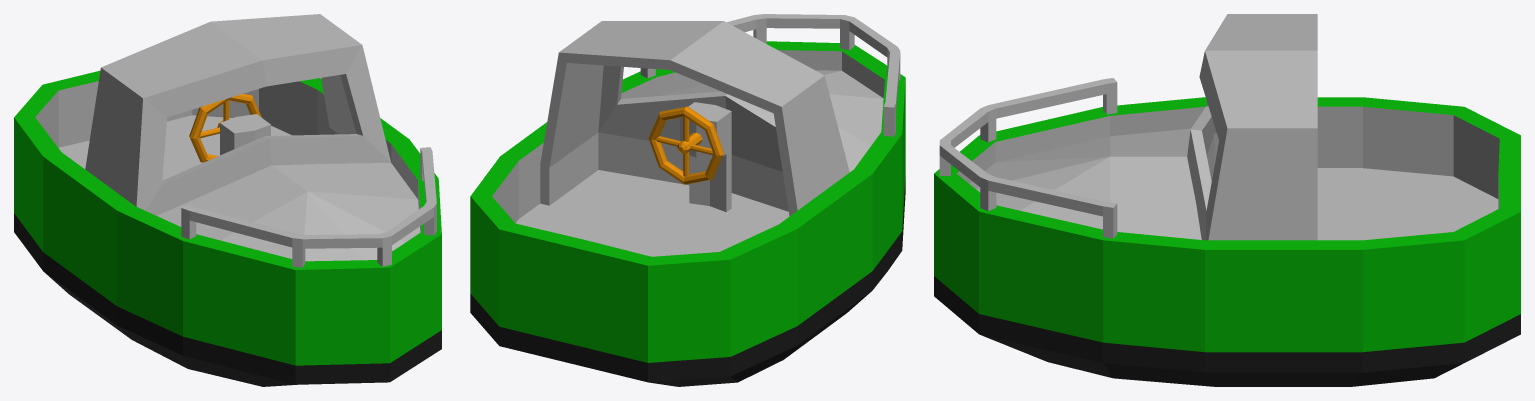
File: Boat.fbx
3 renders of one model, left to right at view 1: azimuth 30°, elevation 25°; view 2: azimuth 150°, elevation 25°; view 3: azimuth 270°, elevation 25°, orthographic. The views are drawn at different scales.
Visible parts, largest first — view 1: Cube.013; view 2: Cube.013; view 3: Cube.013.
Part boxes in pixels (x1,y1,x2,y2): Cube.013: [14, 14, 441, 386]; Cube.013: [470, 14, 905, 386]; Cube.013: [934, 14, 1520, 386].
Bounding box in the file's own units: 16 × 14 × 26.
